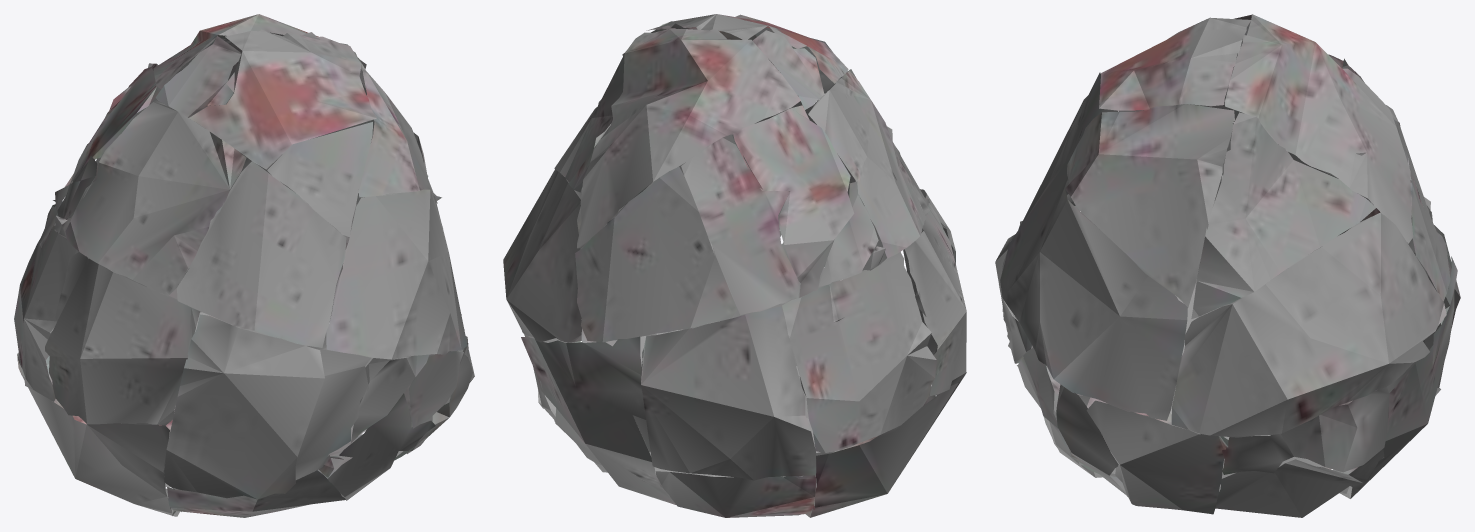
The model's file is loc_sy_nat_boulder_mid.glb.
3 renders of one model, left to right at view 1: azimuth 30°, elevation 25°; view 2: azimuth 150°, elevation 25°; view 3: azimuth 270°, elevation 25°, orthographic. The views are drawn at different scales.
Parts seen in each view (by area): view 1: tripo_node_57a3e4ea-8c0e-4b17-83c6-a8d1004a2c0f; view 2: tripo_node_57a3e4ea-8c0e-4b17-83c6-a8d1004a2c0f; view 3: tripo_node_57a3e4ea-8c0e-4b17-83c6-a8d1004a2c0f.
Part boxes in pixels (bbox=[...]): tripo_node_57a3e4ea-8c0e-4b17-83c6-a8d1004a2c0f: bbox=[14, 14, 474, 517]; tripo_node_57a3e4ea-8c0e-4b17-83c6-a8d1004a2c0f: bbox=[503, 14, 966, 517]; tripo_node_57a3e4ea-8c0e-4b17-83c6-a8d1004a2c0f: bbox=[995, 14, 1460, 517].
Bounding box in the file's own units: 1.08 × 1.14 × 1.03.
1 material, 1 textured.
